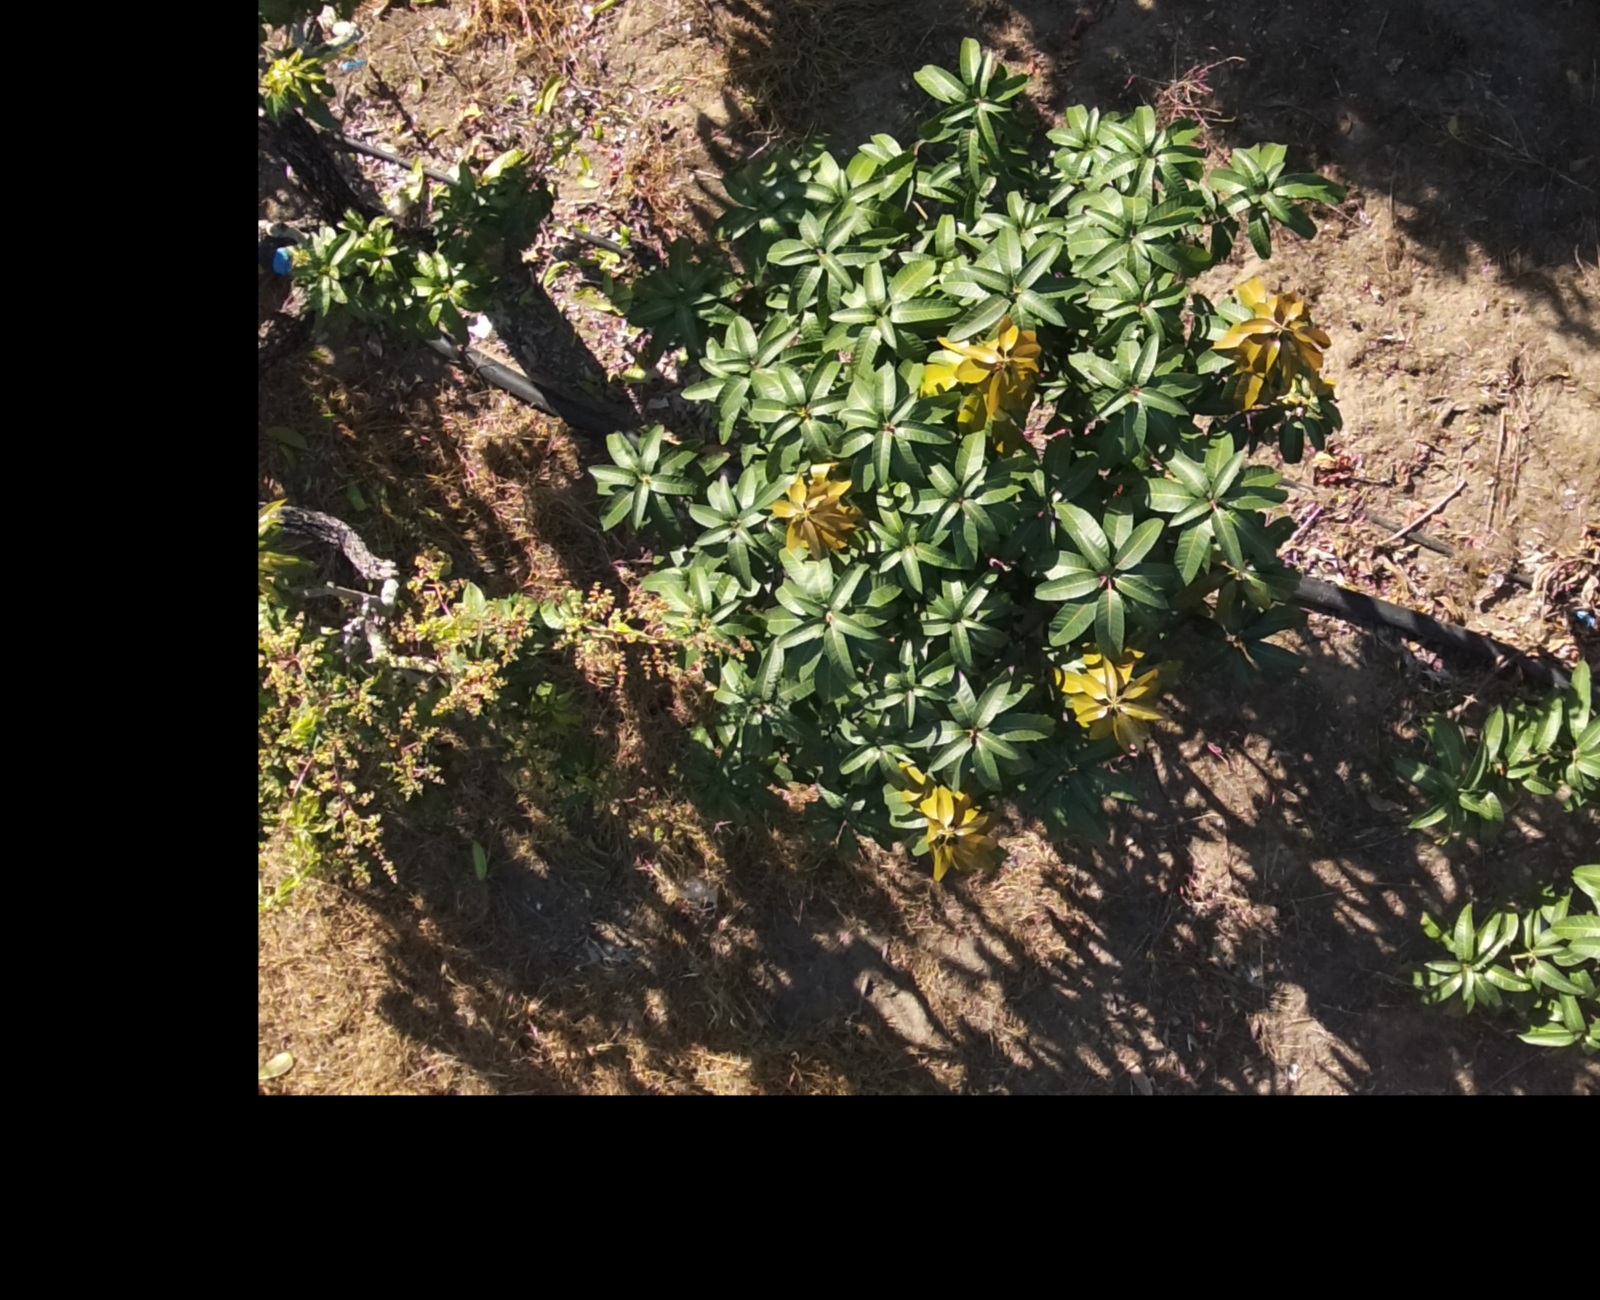flowers: (259, 602, 403, 876), (540, 576, 743, 724), (414, 585, 535, 715), (390, 710, 439, 799), (406, 549, 456, 617), (259, 482, 287, 541)
